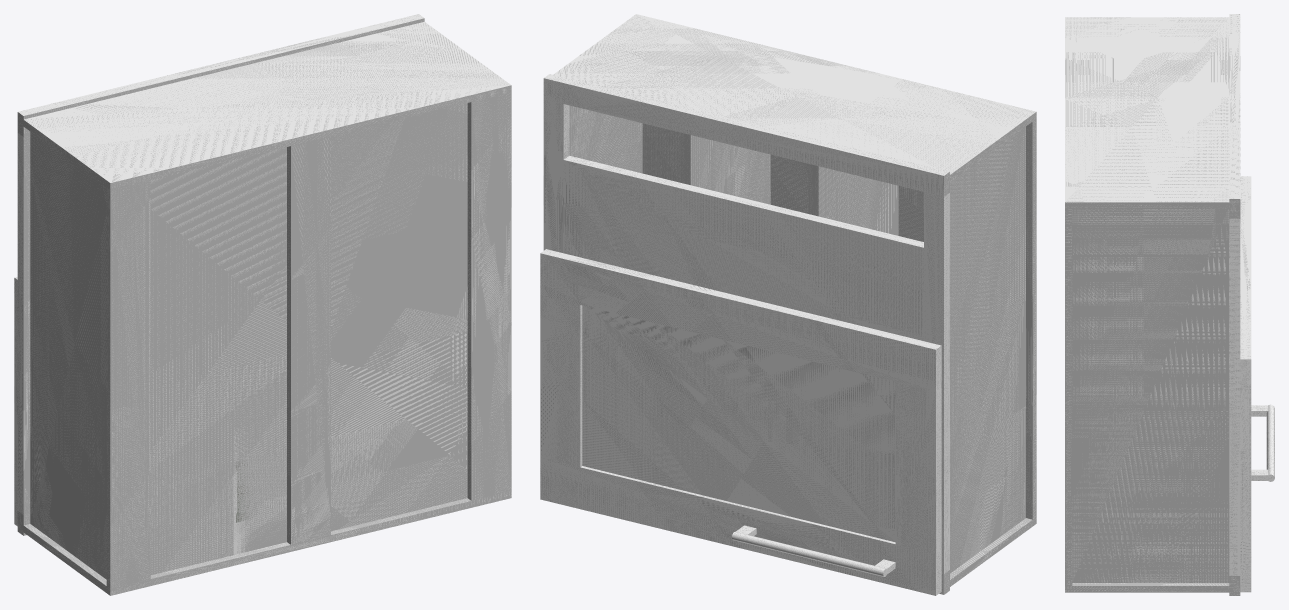
3 renders of one model, left to right at view 1: azimuth 30°, elevation 25°; view 2: azimuth 150°, elevation 25°; view 3: azimuth 270°, elevation 25°, orthographic. The views are drawn at different scales.
Visible parts, largest first — view 1: mesh6_mesh6-geometry, mesh3_mesh3-geometry, mesh8_mesh8-geometry, mesh1_mesh1-geometry, mesh7_mesh7-geometry, mesh4_mesh4-geometry, mesh9_mesh9-geometry, mesh22_mesh22-geometry, mesh16_mesh16-geometry; view 2: mesh17_mesh17-geometry, mesh11_mesh11-geometry, mesh1_mesh1-geometry, mesh8_mesh8-geometry, mesh14_mesh14-geometry, mesh13_mesh13-geometry, mesh9_mesh9-geometry, mesh4_mesh4-geometry, mesh12_mesh12-geometry, mesh16_mesh16-geometry, mesh15_mesh15-geometry, mesh5_mesh5-geometry (+3 smaller); view 3: mesh2_mesh2-geometry, mesh8_mesh8-geometry, mesh4_mesh4-geometry, mesh3_mesh3-geometry, mesh14_mesh14-geometry, mesh9_mesh9-geometry, mesh15_mesh15-geometry, mesh7_mesh7-geometry, mesh19_mesh19-geometry, mesh13_mesh13-geometry.
Part boxes in pixels (x1,y1,x2,y2): mesh6_mesh6-geometry: (150,103,467,575); mesh3_mesh3-geometry: (106,92,511,588); mesh8_mesh8-geometry: (23,22,511,189); mesh1_mesh1-geometry: (30,132,106,579); mesh7_mesh7-geometry: (23,491,511,595); mesh4_mesh4-geometry: (17,133,30,514); mesh9_mesh9-geometry: (17,14,424,136); mesh22_mesh22-geometry: (233,427,256,554); mesh16_mesh16-geometry: (14,319,17,484); mesh17_mesh17-geometry: (582,305,895,542); mesh11_mesh11-geometry: (563,155,923,340); mesh1_mesh1-geometry: (569,105,1025,573); mesh8_mesh8-geometry: (553,14,1036,181); mesh14_mesh14-geometry: (540,249,941,391); mesh13_mesh13-geometry: (540,457,941,595); mesh9_mesh9-geometry: (543,74,949,196); mesh4_mesh4-geometry: (543,99,949,573); mesh12_mesh12-geometry: (680,132,898,235); mesh16_mesh16-geometry: (895,382,941,553); mesh15_mesh15-geometry: (540,295,582,467); mesh5_mesh5-geometry: (642,123,923,241); mesh2_mesh2-geometry: (1072,209,1229,582); mesh8_mesh8-geometry: (1065,17,1229,208); mesh4_mesh4-geometry: (1229,219,1240,575); mesh3_mesh3-geometry: (1065,209,1072,585); mesh14_mesh14-geometry: (1240,176,1251,398); mesh9_mesh9-geometry: (1229,14,1240,218); mesh15_mesh15-geometry: (1240,399,1251,552); mesh7_mesh7-geometry: (1065,583,1229,592); mesh19_mesh19-geometry: (1266,404,1274,481); mesh13_mesh13-geometry: (1240,552,1251,592).
Bounding box in the file's own units: 0.6697 × 0.6697 × 0.3209.
